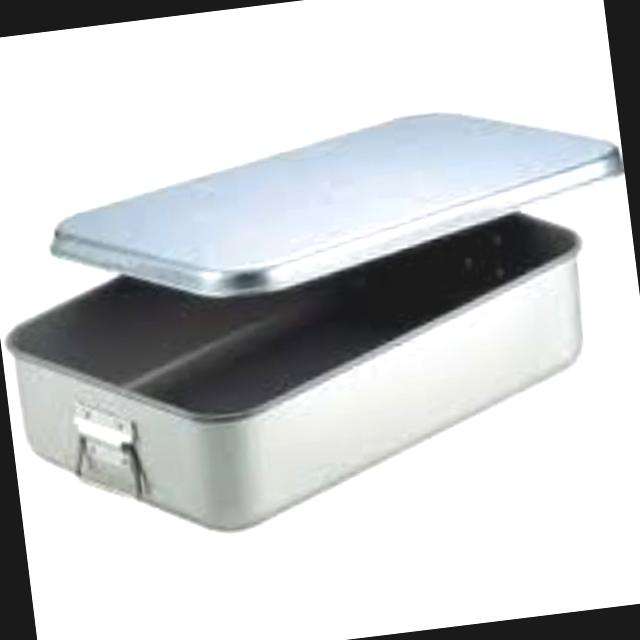Metal: (0, 202, 613, 559), (33, 84, 634, 320), (612, 84, 634, 250)
